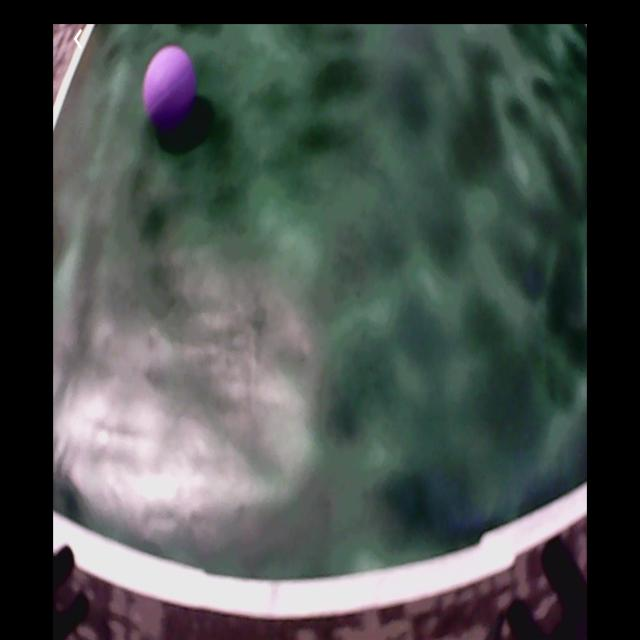ball: (143, 45, 196, 127)
